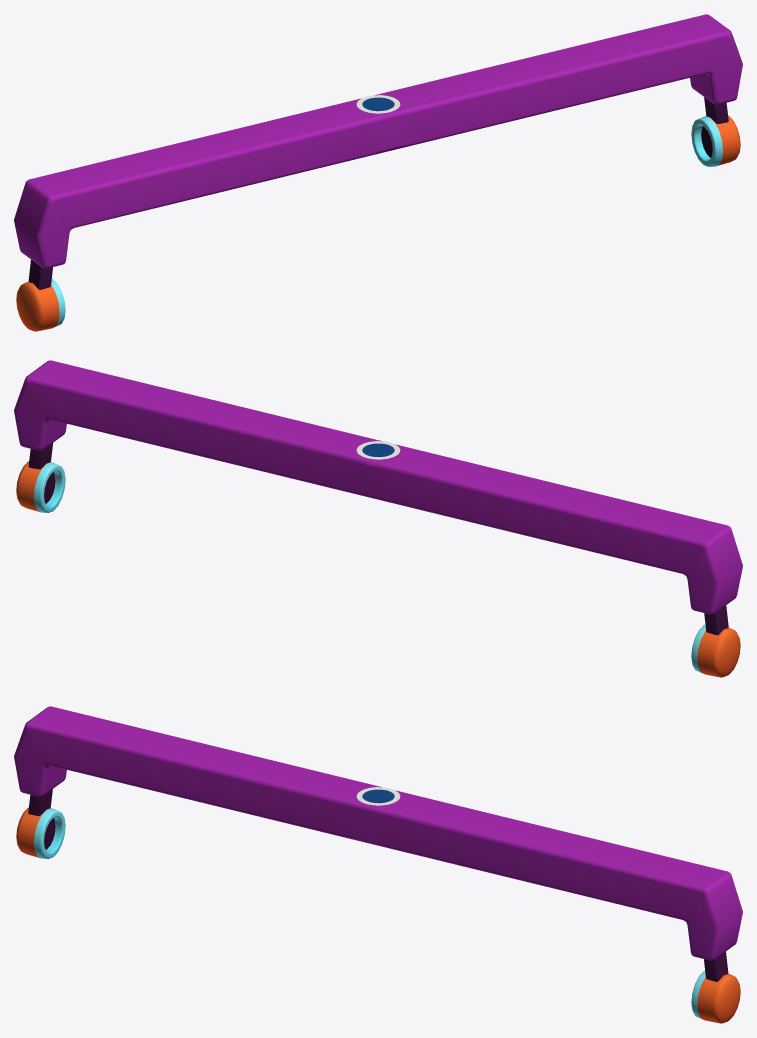
The picture shows the model from 3 angles, top to bottom: view 1: azimuth 30°, elevation 25°; view 2: azimuth 150°, elevation 25°; view 3: azimuth 330°, elevation 25°; orthographic projection.
Visible parts, largest first — view 1: shape2_9, top_cycle; view 2: shape2_9, top_cycle; view 3: shape2_9, top_cycle.
Boxes of the visible parts, x1,y1,x2,y2 form: shape2_9: [14, 14, 742, 331]; top_cycle: [356, 95, 400, 113]; shape2_9: [14, 360, 742, 677]; top_cycle: [356, 441, 400, 459]; shape2_9: [14, 706, 742, 1023]; top_cycle: [356, 787, 400, 805].
Size of the model in its own units: 78.92 by 15.06 by 5.
